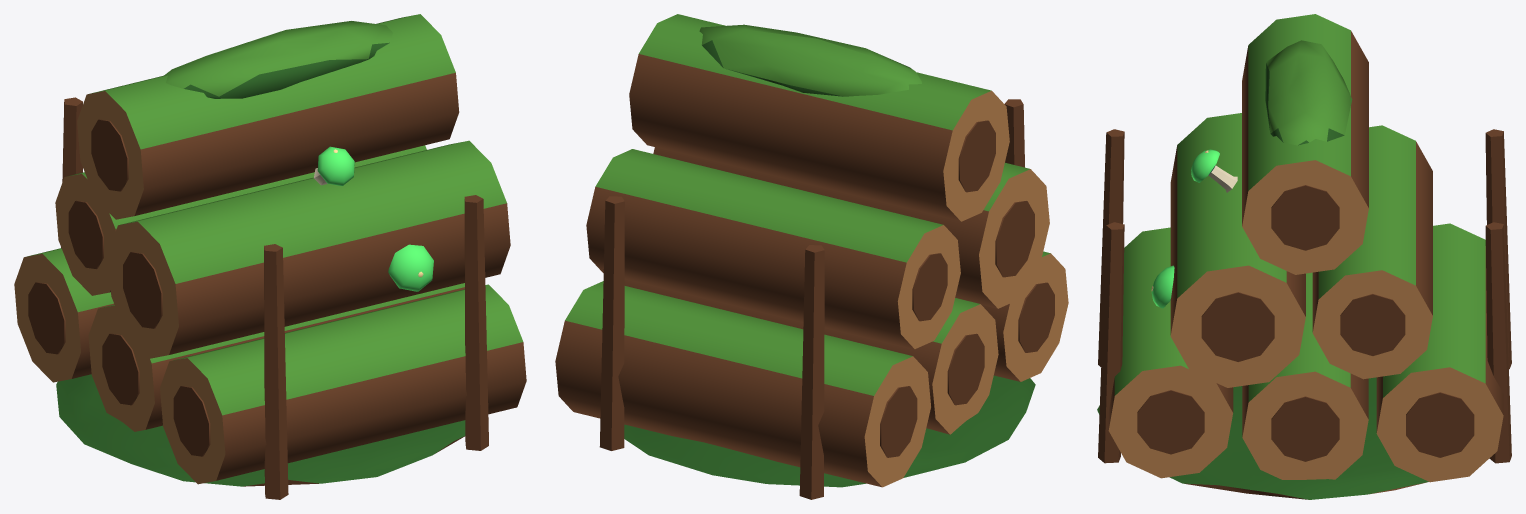
The model's file is LogStack.fbx.
3 renders of one model, left to right at view 1: azimuth 30°, elevation 25°; view 2: azimuth 150°, elevation 25°; view 3: azimuth 270°, elevation 25°, orthographic. The views are drawn at different scales.
Parts seen in each view (by area): view 1: LogStack; view 2: LogStack; view 3: LogStack.
Boxes of the visible parts, <box> form: LogStack: <box>14,14,526,499</box>; LogStack: <box>555,14,1068,499</box>; LogStack: <box>1097,14,1511,499</box>.
Size of the model in its own units: 1.71 by 1.52 by 1.7.
Materials: 2 (2 with a texture image).
